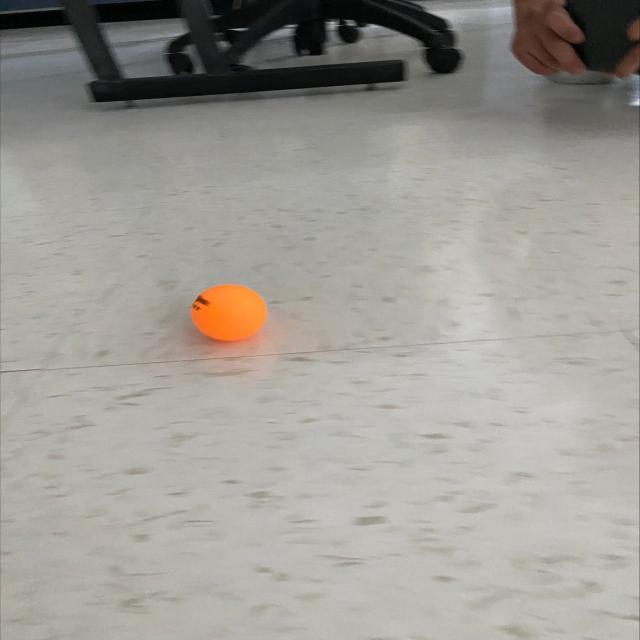ping-pong-ball: (184, 282, 276, 344)
